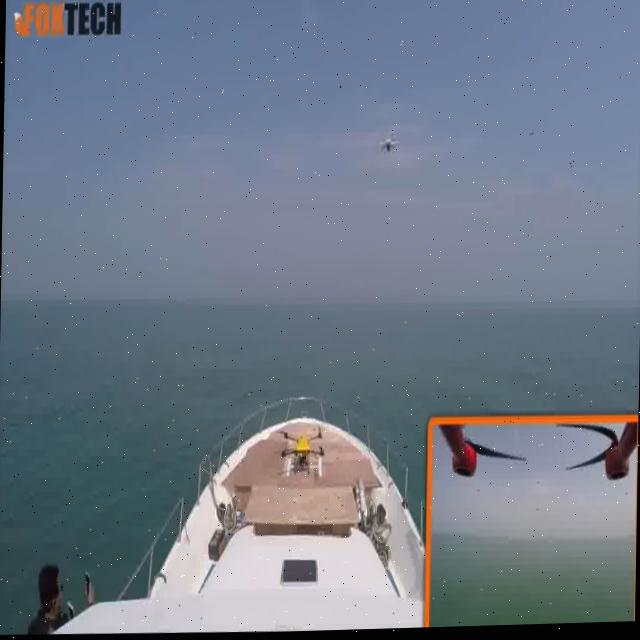drone: (268, 423, 332, 478), (374, 121, 404, 164)
